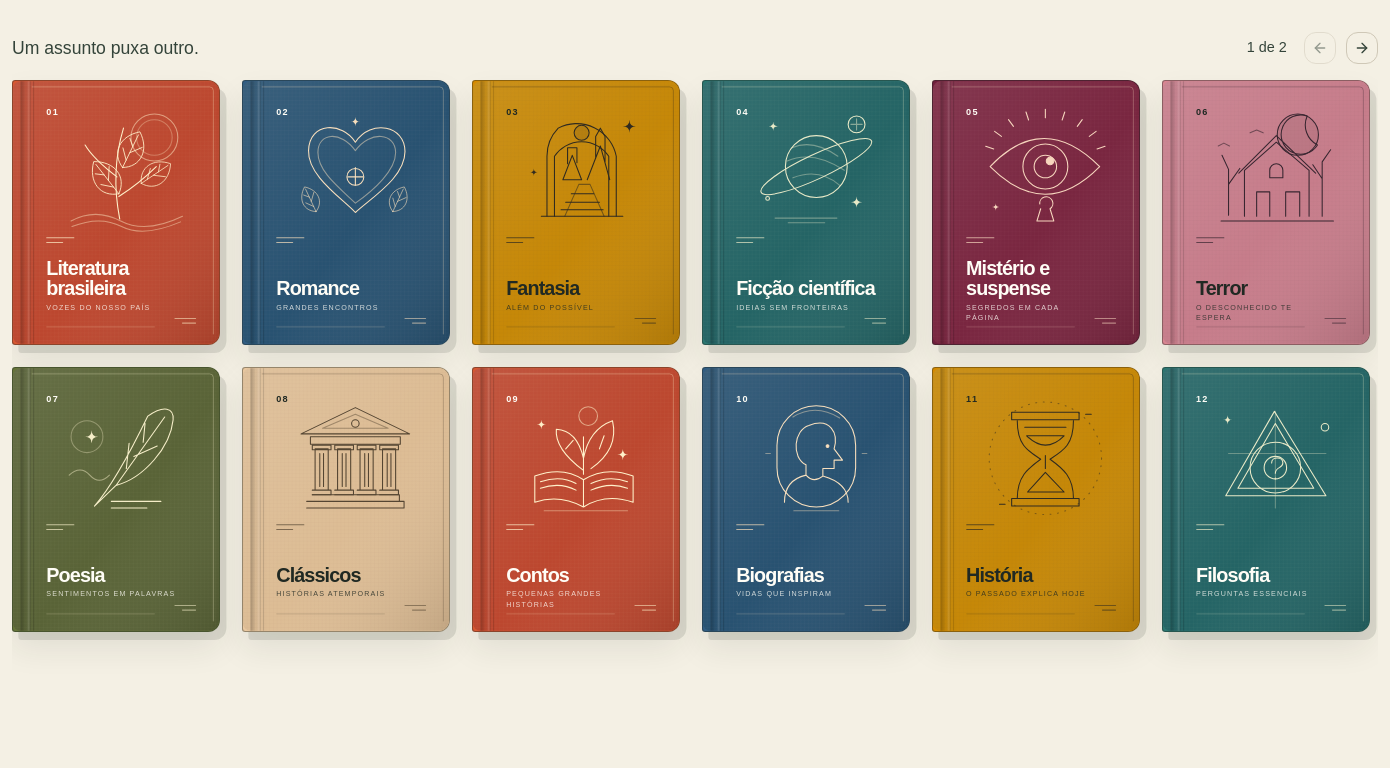
Test: paginação dos temas › mostra doze temas e navega para o próximo conjunto sem perder a busca
Expected: the button named "Temas anteriores" is disabled, 1304,32 -> 1336,64
Click the button named "Próximos temas" at (1362, 48), box 1346,32 -> 1378,64
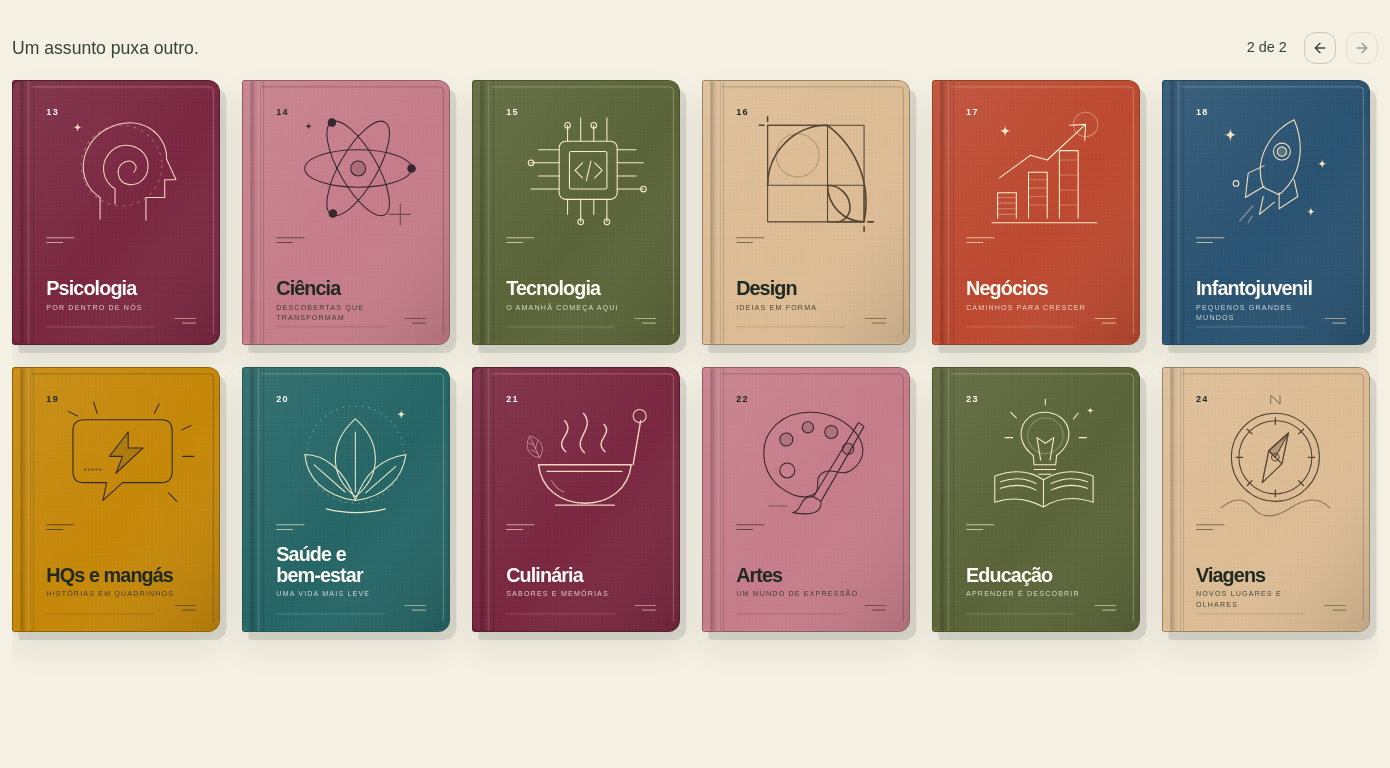
Click the button with aria-label "Pesquisar por Viagens" at (1266, 499), box 1162,367 -> 1370,632
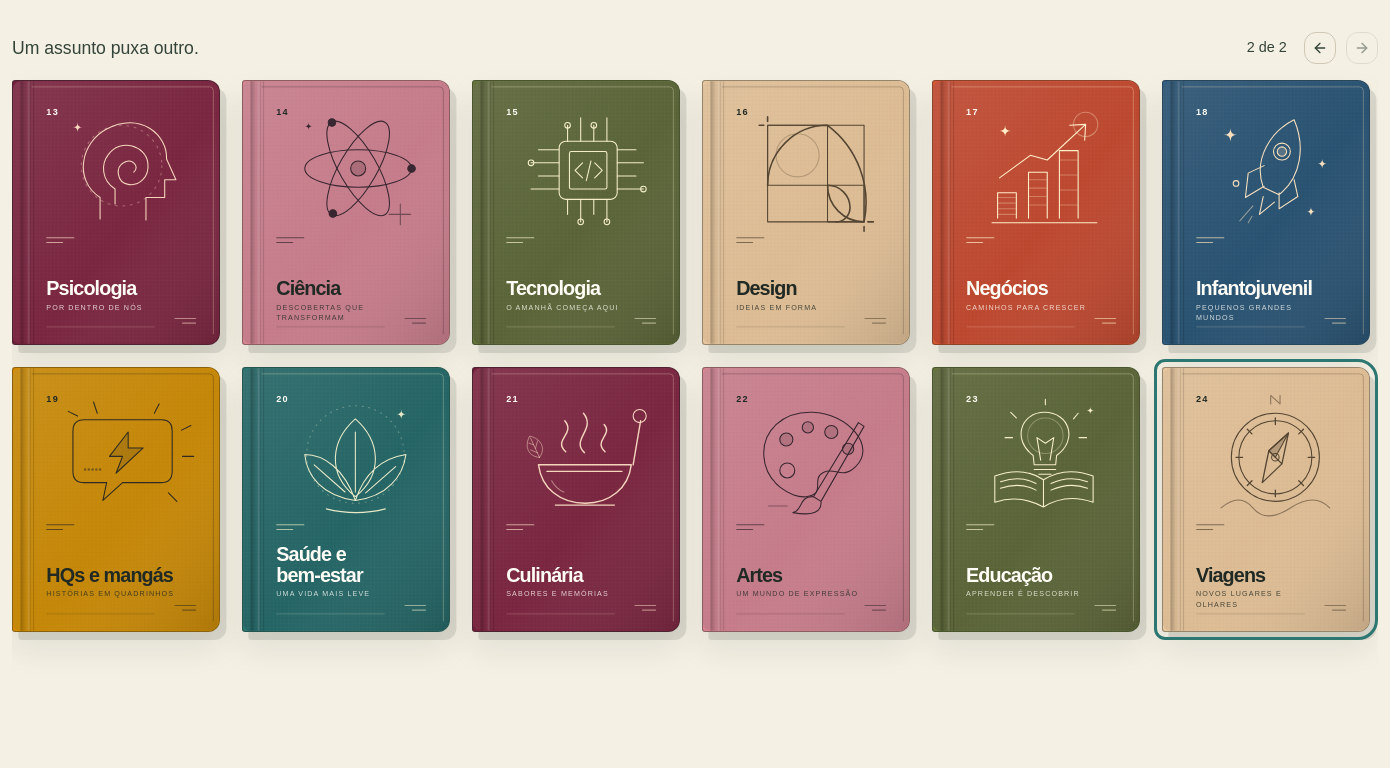
Now the button named "Próximos temas" is disabled, box 1346,32 -> 1378,64
Click the button named "Temas anteriores" at (1320, 48), box 1304,32 -> 1336,64
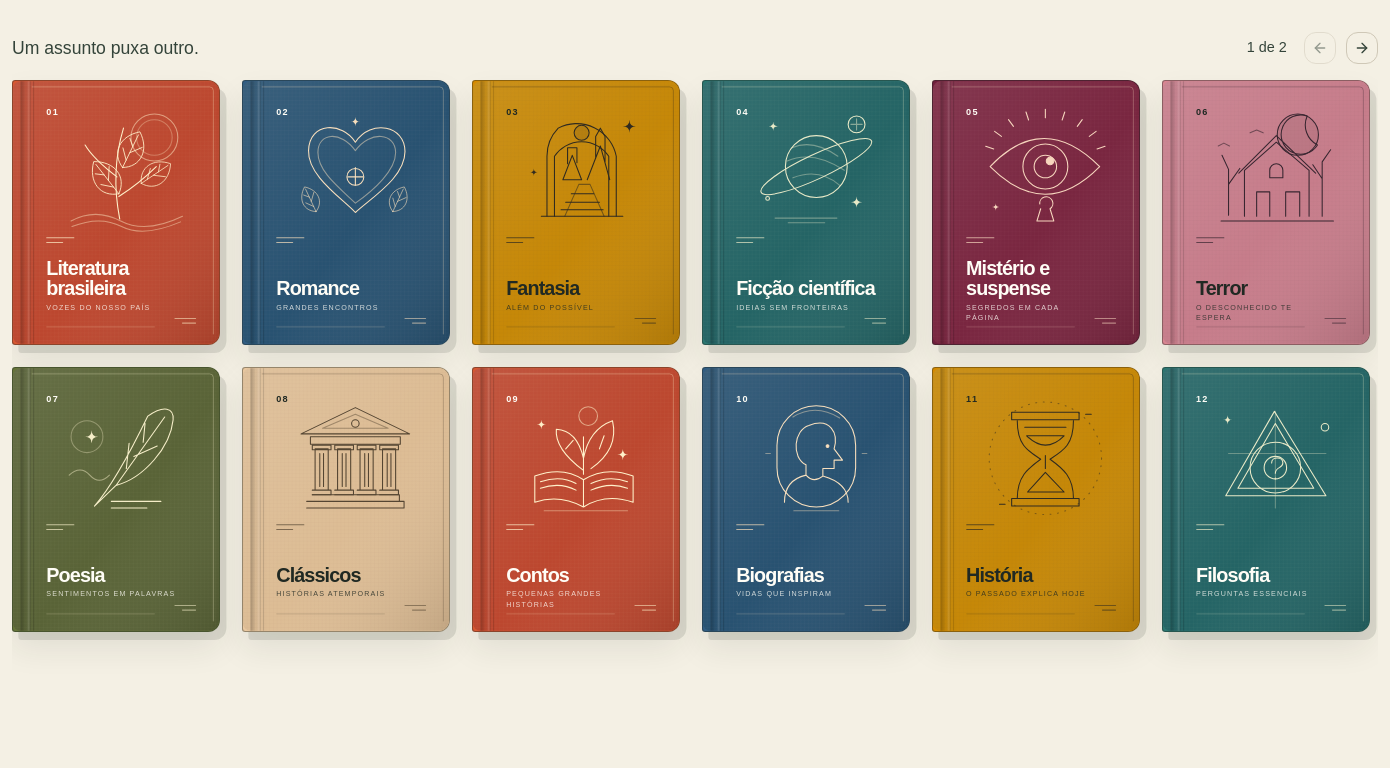
Now the button with aria-label "Pesquisar por Romance" is shown, box 242,80 -> 450,345
